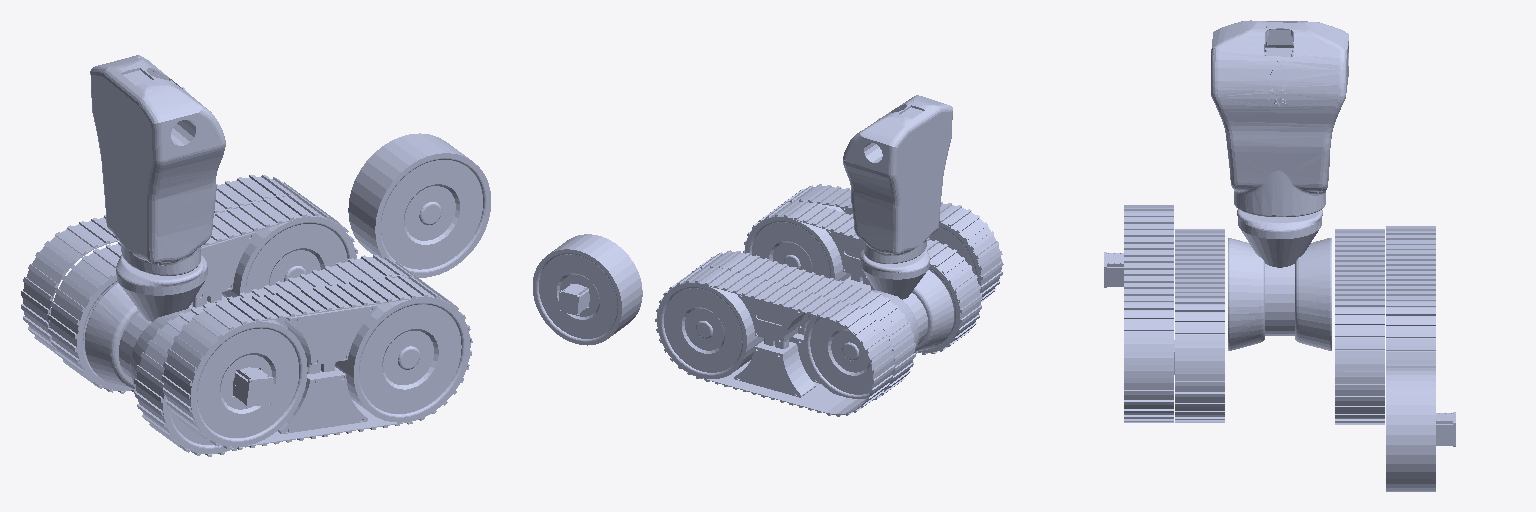
URDF robot description (robot-description-baller):
<?xml version="1.0" encoding="utf-8"?>
<!-- This URDF was automatically created by SolidWorks to URDF Exporter! Originally created by [author] ([email redacted]) 
     Commit Version: 1.5.0-0-g9aa0fdb  Build Version: 1.5.7004.21443
     For more information, please see http://wiki.ros.org/sw_urdf_exporter -->
<robot
  name="robot-description-baller">
  <link
    name="base_link">
    <inertial>
      <origin
        xyz="0.0578219058733361 -0.229051229490053 0.287494731522033"
        rpy="0 0 0" />
      <mass
        value="6.90496170242358" />
      <inertia
        ixx="0.0618638617883216"
        ixy="-4.86025906903307E-07"
        ixz="0.000933964995421894"
        iyy="0.0558956711612322"
        iyz="-5.9876445340078E-07"
        izz="0.0408835258693231" />
    </inertial>
    <visual>
      <origin
        xyz="0 0 0"
        rpy="0 0 0" />
      <geometry>
        <mesh
          filename="package://robot-description-baller/meshes/base_link.STL" />
      </geometry>
      <material
        name="">
        <color
          rgba="0.792156862745098 0.819607843137255 0.933333333333333 1" />
      </material>
    </visual>
    <collision>
      <origin
        xyz="0 0 0"
        rpy="0 0 0" />
      <geometry>
        <mesh
          filename="package://robot-description-baller/meshes/base_link.STL" />
      </geometry>
    </collision>
  </link>
  <link
    name="left_inner_rear_track_link">
    <inertial>
      <origin
        xyz="-0.348367785887154 -0.0274550398974908 -0.000219496335036373"
        rpy="0 0 0" />
      <mass
        value="4.17528833969494" />
      <inertia
        ixx="0.0207171956616369"
        ixy="1.33117978017255E-07"
        ixz="-1.92512775105517E-12"
        iyy="0.0207154450724253"
        iyz="2.5482459976023E-11"
        izz="0.0356331254802435" />
    </inertial>
    <visual>
      <origin
        xyz="0 0 0"
        rpy="0 0 0" />
      <geometry>
        <mesh
          filename="package://robot-description-baller/meshes/left_inner_rear_track_link.STL" />
      </geometry>
      <material
        name="">
        <color
          rgba="0.792156862745098 0.819607843137255 0.933333333333333 1" />
      </material>
    </visual>
    <collision>
      <origin
        xyz="0 0 0"
        rpy="0 0 0" />
      <geometry>
        <mesh
          filename="package://robot-description-baller/meshes/left_inner_rear_track_link.STL" />
      </geometry>
    </collision>
  </link>
  <joint
    name="left_inner_rear_track_joint"
    type="revolute">
    <origin
      xyz="0.40808 -0.068572 0.27695"
      rpy="1.5708 0.031025 0" />
    <parent
      link="base_link" />
    <child
      link="left_inner_rear_track_link" />
    <axis
      xyz="0 0 0" />
    <limit
      lower="0"
      upper="0"
      effort="0"
      velocity="0" />
    <safety_controller
      k_velocity="0" />
  </joint>
  <link
    name="left_inner_track_base_link">
    <inertial>
      <origin
        xyz="0.208894785796513 -0.0146887943523822 -0.00134460830658914"
        rpy="0 0 0" />
      <mass
        value="2.20888146035223" />
      <inertia
        ixx="0.0177115705958669"
        ixy="-0.000442907878950439"
        ixz="-1.97853121902233E-06"
        iyy="0.0230391356369313"
        iyz="-1.34748584330851E-05"
        izz="0.0385405863901358" />
    </inertial>
    <visual>
      <origin
        xyz="0 0 0"
        rpy="0 0 0" />
      <geometry>
        <mesh
          filename="package://robot-description-baller/meshes/left_inner_track_base_link.STL" />
      </geometry>
      <material
        name="">
        <color
          rgba="0.792156862745098 0.819607843137255 0.933333333333333 1" />
      </material>
    </visual>
    <collision>
      <origin
        xyz="0 0 0"
        rpy="0 0 0" />
      <geometry>
        <mesh
          filename="package://robot-description-baller/meshes/left_inner_track_base_link.STL" />
      </geometry>
    </collision>
  </link>
  <joint
    name="left_inner_track_base_joint"
    type="fixed">
    <origin
      xyz="-0.38203 0.0023495 0.0065379"
      rpy="0 0 0" />
    <parent
      link="left_inner_rear_track_link" />
    <child
      link="left_inner_track_base_link" />
    <axis
      xyz="0 0 0" />
    <safety_controller
      k_velocity="0" />
  </joint>
  <link
    name="left_inner_front_track_link">
    <inertial>
      <origin
        xyz="0.000219496328952254 0.00135538170549637 -0.000450797126796576"
        rpy="0 0 0" />
      <mass
        value="4.17528833969495" />
      <inertia
        ixx="0.0356331254802435"
        ixy="2.5466367458297E-11"
        ixz="-1.99314228100425E-10"
        iyy="0.020715446990881"
        iyz="-1.45172805605886E-07"
        izz="0.0207171937431812" />
    </inertial>
    <visual>
      <origin
        xyz="0 0 0"
        rpy="0 0 0" />
      <geometry>
        <mesh
          filename="package://robot-description-baller/meshes/left_inner_front_track_link.STL" />
      </geometry>
      <material
        name="">
        <color
          rgba="0.792156862745098 0.819607843137255 0.933333333333333 1" />
      </material>
    </visual>
    <collision>
      <origin
        xyz="0 0 0"
        rpy="0 0 0" />
      <geometry>
        <mesh
          filename="package://robot-description-baller/meshes/left_inner_front_track_link.STL" />
      </geometry>
    </collision>
  </link>
  <joint
    name="left_inner_front_track_joint"
    type="revolute">
    <origin
      xyz="0.38203 -0.0023495 -0.0065379"
      rpy="3.1416 -1.5708 -3.1368" />
    <parent
      link="left_inner_track_base_link" />
    <child
      link="left_inner_front_track_link" />
    <axis
      xyz="0 0 0" />
    <limit
      lower="0"
      upper="0"
      effort="0"
      velocity="0" />
    <safety_controller
      k_velocity="0" />
  </joint>
  <link
    name="left_outer_track_front_link">
    <inertial>
      <origin
        xyz="0.000219496335155479 1.94725701902487E-05 0.000441797714475001"
        rpy="0 0 0" />
      <mass
        value="4.17528833969495" />
      <inertia
        ixx="0.0356331254802435"
        ixy="-1.94735109800564E-10"
        ixz="3.64298498652816E-12"
        iyy="0.0207154470244562"
        iyz="1.45374653749959E-07"
        izz="0.0207171937096059" />
    </inertial>
    <visual>
      <origin
        xyz="0 0 0"
        rpy="0 0 0" />
      <geometry>
        <mesh
          filename="package://robot-description-baller/meshes/left_outer_track_front_link.STL" />
      </geometry>
      <material
        name="">
        <color
          rgba="0.792156862745098 0.819607843137255 0.933333333333333 1" />
      </material>
    </visual>
    <collision>
      <origin
        xyz="0 0 0"
        rpy="0 0 0" />
      <geometry>
        <mesh
          filename="package://robot-description-baller/meshes/left_outer_track_front_link.STL" />
      </geometry>
    </collision>
  </link>
  <joint
    name="left_outer_track_front_joint"
    type="revolute">
    <origin
      xyz="-0.10172 0.0013359 0"
      rpy="3.1416 0 3.1416" />
    <parent
      link="left_inner_front_track_link" />
    <child
      link="left_outer_track_front_link" />
    <axis
      xyz="0 0 0" />
    <limit
      lower="0"
      upper="0"
      effort="0"
      velocity="0" />
    <safety_controller
      k_velocity="0" />
  </joint>
  <link
    name="left_out_track_base_link">
    <inertial>
      <origin
        xyz="0.208955891820383 -0.0154395863840132 -0.00134460830658937"
        rpy="0 0 0" />
      <mass
        value="2.20888146035223" />
      <inertia
        ixx="0.0177155549696435"
        ixy="-0.000466238698999306"
        ixz="-1.91945864226303E-06"
        iyy="0.0230351512631547"
        iyz="-1.34833999457476E-05"
        izz="0.0385405863901358" />
    </inertial>
    <visual>
      <origin
        xyz="0 0 0"
        rpy="0 0 0" />
      <geometry>
        <mesh
          filename="package://robot-description-baller/meshes/left_out_track_base_link.STL" />
      </geometry>
      <material
        name="">
        <color
          rgba="0.792156862745098 0.819607843137255 0.933333333333333 1" />
      </material>
    </visual>
    <collision>
      <origin
        xyz="0 0 0"
        rpy="0 0 0" />
      <geometry>
        <mesh
          filename="package://robot-description-baller/meshes/left_out_track_base_link.STL" />
      </geometry>
    </collision>
  </link>
  <joint
    name="left_out_track_base_joint"
    type="fixed">
    <origin
      xyz="-0.0065379 0.011325 -0.38187"
      rpy="1.5708 -1.5438 -1.5708" />
    <parent
      link="left_outer_track_front_link" />
    <child
      link="left_out_track_base_link" />
    <axis
      xyz="0 0 0" />
    <safety_controller
      k_velocity="0" />
  </joint>
  <link
    name="left_outer_track_rear_link">
    <inertial>
      <origin
        xyz="-0.103779813958259 -0.0338202975658785 0.34783114382747"
        rpy="0 0 0" />
      <mass
        value="4.50966940783013" />
      <inertia
        ixx="0.0357811712676882"
        ixy="2.21243990172557E-10"
        ixz="-2.7473965138921E-09"
        iyy="0.0215005422044002"
        iyz="-1.18860702397074E-07"
        izz="0.0215020841314735" />
    </inertial>
    <visual>
      <origin
        xyz="0 0 0"
        rpy="0 0 0" />
      <geometry>
        <mesh
          filename="package://robot-description-baller/meshes/left_outer_track_rear_link.STL" />
      </geometry>
      <material
        name="">
        <color
          rgba="0.792156862745098 0.819607843137255 0.933333333333333 1" />
      </material>
    </visual>
    <collision>
      <origin
        xyz="0 0 0"
        rpy="0 0 0" />
      <geometry>
        <mesh
          filename="package://robot-description-baller/meshes/left_outer_track_rear_link.STL" />
      </geometry>
    </collision>
  </link>
  <joint
    name="left_outer_track_rear_joint"
    type="revolute">
    <origin
      xyz="0.38206 -0.0023492 0.095182"
      rpy="3.1277 -1.5708 0" />
    <parent
      link="left_out_track_base_link" />
    <child
      link="left_outer_track_rear_link" />
    <axis
      xyz="0 0 0" />
    <limit
      lower="0"
      upper="0"
      effort="0"
      velocity="0" />
    <safety_controller
      k_velocity="0" />
  </joint>
  <link
    name="right_inner_track_link">
    <inertial>
      <origin
        xyz="0.000219496335037872 -0.028834803460506 0.000360925352606178"
        rpy="0 0 0" />
      <mass
        value="4.17528833969495" />
      <inertia
        ixx="0.0356331254802435"
        ixy="-2.55545716835766E-11"
        ixz="-1.62224634006936E-13"
        iyy="0.020715435077784"
        iyz="-1.11351693239323E-08"
        izz="0.0207172056562782" />
    </inertial>
    <visual>
      <origin
        xyz="0 0 0"
        rpy="0 0 0" />
      <geometry>
        <mesh
          filename="package://robot-description-baller/meshes/right_inner_track_link.STL" />
      </geometry>
      <material
        name="">
        <color
          rgba="0.792156862745098 0.819607843137255 0.933333333333333 1" />
      </material>
    </visual>
    <collision>
      <origin
        xyz="0 0 0"
        rpy="0 0 0" />
      <geometry>
        <mesh
          filename="package://robot-description-baller/meshes/right_inner_track_link.STL" />
      </geometry>
    </collision>
  </link>
  <joint
    name="right_inner_track_joint"
    type="revolute">
    <origin
      xyz="0.058294 -0.38953 0.28914"
      rpy="1.6088 0 -1.5708" />
    <parent
      link="base_link" />
    <child
      link="right_inner_track_link" />
    <axis
      xyz="0 0 0" />
    <limit
      lower="0"
      upper="0"
      effort="0"
      velocity="0" />
    <safety_controller
      k_velocity="0" />
  </joint>
  <link
    name="right_inner_track_base_link">
    <inertial>
      <origin
        xyz="0.176421252755492 -0.0136968698089939 -0.00480669220342167"
        rpy="0 0 0" />
      <mass
        value="2.20888146035223" />
      <inertia
        ixx="0.0177115705958669"
        ixy="-0.000442907878950379"
        ixz="-1.97853121899421E-06"
        iyy="0.0230391356369314"
        iyz="-1.34748584330889E-05"
        izz="0.0385405863901358" />
    </inertial>
    <visual>
      <origin
        xyz="0 0 0"
        rpy="0 0 0" />
      <geometry>
        <mesh
          filename="package://robot-description-baller/meshes/right_inner_track_base_link.STL" />
      </geometry>
      <material
        name="">
        <color
          rgba="0.792156862745098 0.819607843137255 0.933333333333333 1" />
      </material>
    </visual>
    <collision>
      <origin
        xyz="0 0 0"
        rpy="0 0 0" />
      <geometry>
        <mesh
          filename="package://robot-description-baller/meshes/right_inner_track_base_link.STL" />
      </geometry>
    </collision>
  </link>
  <joint
    name="right_inner_track_base_joint"
    type="fixed">
    <origin
      xyz="0.01 0 0"
      rpy="-1.5708 1.5171 -1.5708" />
    <parent
      link="right_inner_track_link" />
    <child
      link="right_inner_track_base_link" />
    <axis
      xyz="0 0 0" />
    <safety_controller
      k_velocity="0" />
  </joint>
  <link
    name="right_inner_track_front_link">
    <inertial>
      <origin
        xyz="0.000219496335038094 3.99930089045597E-12 6.43929354282591E-15"
        rpy="0 0 0" />
      <mass
        value="4.17528833969495" />
      <inertia
        ixx="0.0356331254802435"
        ixy="1.43629860785195E-10"
        ixz="5.95294617372261E-12"
        iyy="0.0207154383281579"
        iyz="7.66059342907276E-08"
        izz="0.0207172024059043" />
    </inertial>
    <visual>
      <origin
        xyz="0 0 0"
        rpy="0 0 0" />
      <geometry>
        <mesh
          filename="package://robot-description-baller/meshes/right_inner_track_front_link.STL" />
      </geometry>
      <material
        name="">
        <color
          rgba="0.792156862745098 0.819607843137255 0.933333333333333 1" />
      </material>
    </visual>
    <collision>
      <origin
        xyz="0 0 0"
        rpy="0 0 0" />
      <geometry>
        <mesh
          filename="package://robot-description-baller/meshes/right_inner_track_front_link.STL" />
      </geometry>
    </collision>
  </link>
  <joint
    name="right_inner_track_front_joint"
    type="revolute">
    <origin
      xyz="0.35 0 -0.01"
      rpy="0.045111 1.5708 0" />
    <parent
      link="right_inner_track_base_link" />
    <child
      link="right_inner_track_front_link" />
    <axis
      xyz="0 0 0" />
    <limit
      lower="0"
      upper="0"
      effort="0"
      velocity="0" />
    <safety_controller
      k_velocity="0" />
  </joint>
  <link
    name="right_outer_track_front_link">
    <inertial>
      <origin
        xyz="-3.09096026551714E-09 -0.0533139967701026 3.74369119593432E-08"
        rpy="0 0 0" />
      <mass
        value="4.50966940783014" />
      <inertia
        ixx="0.0214124543703475"
        ixy="5.43472898690916E-10"
        ixz="-1.27896829473485E-07"
        iyy="0.0357811712676883"
        iyz="-6.26883758973374E-09"
        izz="0.021413993402566" />
    </inertial>
    <visual>
      <origin
        xyz="0 0 0"
        rpy="0 0 0" />
      <geometry>
        <mesh
          filename="package://robot-description-baller/meshes/right_outer_track_front_link.STL" />
      </geometry>
      <material
        name="">
        <color
          rgba="0.792156862745098 0.819607843137255 0.933333333333333 1" />
      </material>
    </visual>
    <collision>
      <origin
        xyz="0 0 0"
        rpy="0 0 0" />
      <geometry>
        <mesh
          filename="package://robot-description-baller/meshes/right_outer_track_front_link.STL" />
      </geometry>
    </collision>
  </link>
  <joint
    name="right_outer_track_front_joint"
    type="revolute">
    <origin
      xyz="-0.04672 0 0"
      rpy="0 -1.5316 -1.5708" />
    <parent
      link="right_inner_track_front_link" />
    <child
      link="right_outer_track_front_link" />
    <axis
      xyz="0 0 0" />
    <limit
      lower="0"
      upper="0"
      effort="0"
      velocity="0" />
    <safety_controller
      k_velocity="0" />
  </joint>
  <link
    name="right_outer_track_base_link">
    <inertial>
      <origin
        xyz="0.207914697106206 -0.000374618691388662 -0.0013446083065895"
        rpy="0 0 0" />
      <mass
        value="2.20888146035223" />
      <inertia
        ixx="0.0176750004221534"
        ixy="1.8058094778415E-07"
        ixz="-3.08108847310618E-06"
        iyy="0.0230757058106448"
        iyz="-1.32662462436482E-05"
        izz="0.0385405863901358" />
    </inertial>
    <visual>
      <origin
        xyz="0 0 0"
        rpy="0 0 0" />
      <geometry>
        <mesh
          filename="package://robot-description-baller/meshes/right_outer_track_base_link.STL" />
      </geometry>
      <material
        name="">
        <color
          rgba="0.792156862745098 0.819607843137255 0.933333333333333 1" />
      </material>
    </visual>
    <collision>
      <origin
        xyz="0 0 0"
        rpy="0 0 0" />
      <geometry>
        <mesh
          filename="package://robot-description-baller/meshes/right_outer_track_base_link.STL" />
      </geometry>
    </collision>
  </link>
  <joint
    name="right_outer_track_base_joint"
    type="fixed">
    <origin
      xyz="-0.38202 -0.061538 -0.0027053"
      rpy="1.5708 -0.0097345 0" />
    <parent
      link="right_outer_track_front_link" />
    <child
      link="right_outer_track_base_link" />
    <axis
      xyz="0 0 0" />
    <safety_controller
      k_velocity="0" />
  </joint>
  <link
    name="right_outer_rear_track_joint">
    <inertial>
      <origin
        xyz="-0.00205981876088124 -0.00999999358462084 -3.70124209614353E-08"
        rpy="0 0 0" />
      <mass
        value="4.50966940783013" />
      <inertia
        ixx="0.0357811712676882"
        ixy="4.62441936247664E-10"
        ixz="-2.5177019544376E-09"
        iyy="0.0215005785858569"
        iyz="-2.62491541323925E-07"
        izz="0.0215020477500167" />
    </inertial>
    <visual>
      <origin
        xyz="0 0 0"
        rpy="0 0 0" />
      <geometry>
        <mesh
          filename="package://robot-description-baller/meshes/right_outer_rear_track_joint.STL" />
      </geometry>
      <material
        name="">
        <color
          rgba="0.792156862745098 0.819607843137255 0.933333333333333 1" />
      </material>
    </visual>
    <collision>
      <origin
        xyz="0 0 0"
        rpy="0 0 0" />
      <geometry>
        <mesh
          filename="package://robot-description-baller/meshes/right_outer_rear_track_joint.STL" />
      </geometry>
    </collision>
  </link>
  <joint
    name="right_outer_rear_track_joint"
    type="continuous">
    <origin
      xyz="0.033221 -0.010943 -0.0065379"
      rpy="3.0224 1.5708 0" />
    <parent
      link="right_outer_track_base_link" />
    <child
      link="right_outer_rear_track_joint" />
    <axis
      xyz="0 0 0" />
    <safety_controller
      k_velocity="0" />
  </joint>
  <link
    name="torso_upper_link">
    <inertial>
      <origin
        xyz="-0.00138612726783582 0.00772682731357199 -0.0238262385746277"
        rpy="0 0 0" />
      <mass
        value="10.7560323516289" />
      <inertia
        ixx="0.126724222632888"
        ixy="0.000236382801053609"
        ixz="-2.66894549877839E-05"
        iyy="0.0661744477193023"
        iyz="0.00771959988498224"
        izz="0.155042665551656" />
    </inertial>
    <visual>
      <origin
        xyz="0 0 0"
        rpy="0 0 0" />
      <geometry>
        <mesh
          filename="package://robot-description-baller/meshes/torso_upper_link.STL" />
      </geometry>
      <material
        name="">
        <color
          rgba="0.792156862745098 0.819607843137255 0.933333333333333 1" />
      </material>
    </visual>
    <collision>
      <origin
        xyz="0 0 0"
        rpy="0 0 0" />
      <geometry>
        <mesh
          filename="package://robot-description-baller/meshes/torso_upper_link.STL" />
      </geometry>
    </collision>
  </link>
  <joint
    name="torso_upper_joint"
    type="fixed">
    <origin
      xyz="0.0664223731950749 -0.228813198152485 0.63873329880116"
      rpy="1.60879007547593 0.00175498333508944 1.52465997053619" />
    <parent
      link="base_link" />
    <child
      link="torso_upper_link" />
    <axis
      xyz="0 0 0" />
    <safety_controller
      k_velocity="0" />
  </joint>
</robot>

--- Facts derived from the render (not from the file) ---
The picture shows the robot from 3 angles, left to right: view 1: azimuth 30°, elevation 25°; view 2: azimuth 150°, elevation 25°; view 3: azimuth 270°, elevation 25°; orthographic projection.
Model robot-description-baller with 14 links and 13 joints (7 revolute, 1 continuous, 5 fixed), rooted at base_link, posed every joint at zero.
Links seen in each view (by area): view 1: torso_upper_link, right_outer_track_base_link, left_outer_track_rear_link, right_outer_track_front_link, right_outer_rear_track_joint, left_inner_track_base_link, base_link, left_out_track_base_link, right_inner_track_base_link, left_inner_front_track_link, right_inner_track_link, left_inner_rear_track_link; view 2: torso_upper_link, left_out_track_base_link, left_outer_track_rear_link, left_outer_track_front_link, left_inner_track_base_link, right_inner_track_base_link, base_link, left_inner_rear_track_link, right_inner_track_front_link, right_outer_track_base_link, right_outer_rear_track_joint, right_inner_track_link; view 3: torso_upper_link, base_link, right_outer_track_base_link, left_inner_track_base_link, right_inner_track_base_link, left_out_track_base_link, left_outer_track_rear_link, right_outer_rear_track_joint.
Boxes of the visible links, <box> form: torso_upper_link: <box>90,55,225,275</box>; right_outer_track_base_link: <box>162,275,472,449</box>; left_outer_track_rear_link: <box>348,133,490,277</box>; right_outer_track_front_link: <box>335,298,469,422</box>; right_outer_rear_track_joint: <box>191,320,307,446</box>; left_inner_track_base_link: <box>48,195,357,393</box>; base_link: <box>85,255,207,389</box>; left_out_track_base_link: <box>21,175,309,353</box>; right_inner_track_base_link: <box>134,255,421,456</box>; left_inner_front_track_link: <box>222,217,355,297</box>; right_inner_track_link: <box>164,395,231,453</box>; left_inner_rear_track_link: <box>78,276,192,390</box>; torso_upper_link: <box>843,95,952,263</box>; left_out_track_base_link: <box>655,266,894,416</box>; left_outer_track_rear_link: <box>533,234,642,345</box>; left_outer_track_front_link: <box>658,283,763,378</box>; left_inner_track_base_link: <box>692,250,915,399</box>; right_inner_track_base_link: <box>743,200,982,354</box>; base_link: <box>860,249,953,352</box>; left_inner_rear_track_link: <box>804,316,892,398</box>; right_inner_track_front_link: <box>745,217,851,280</box>; right_outer_track_base_link: <box>781,184,1003,301</box>; right_outer_rear_track_joint: <box>929,223,980,284</box>; right_inner_track_link: <box>871,265,959,352</box>; torso_upper_link: <box>1211,20,1348,216</box>; base_link: <box>1228,209,1331,350</box>; right_outer_track_base_link: <box>1124,205,1173,422</box>; left_inner_track_base_link: <box>1335,229,1384,424</box>; right_inner_track_base_link: <box>1175,229,1224,422</box>; left_out_track_base_link: <box>1386,226,1435,366</box>; left_outer_track_rear_link: <box>1386,367,1455,491</box>; right_outer_rear_track_joint: <box>1104,252,1123,287</box>.
Size in the robot's own frame: 0.9543 by 0.7064 by 0.7048 metres.
14 mesh visuals loaded from 14 distinct referenced files (14 binary STL).